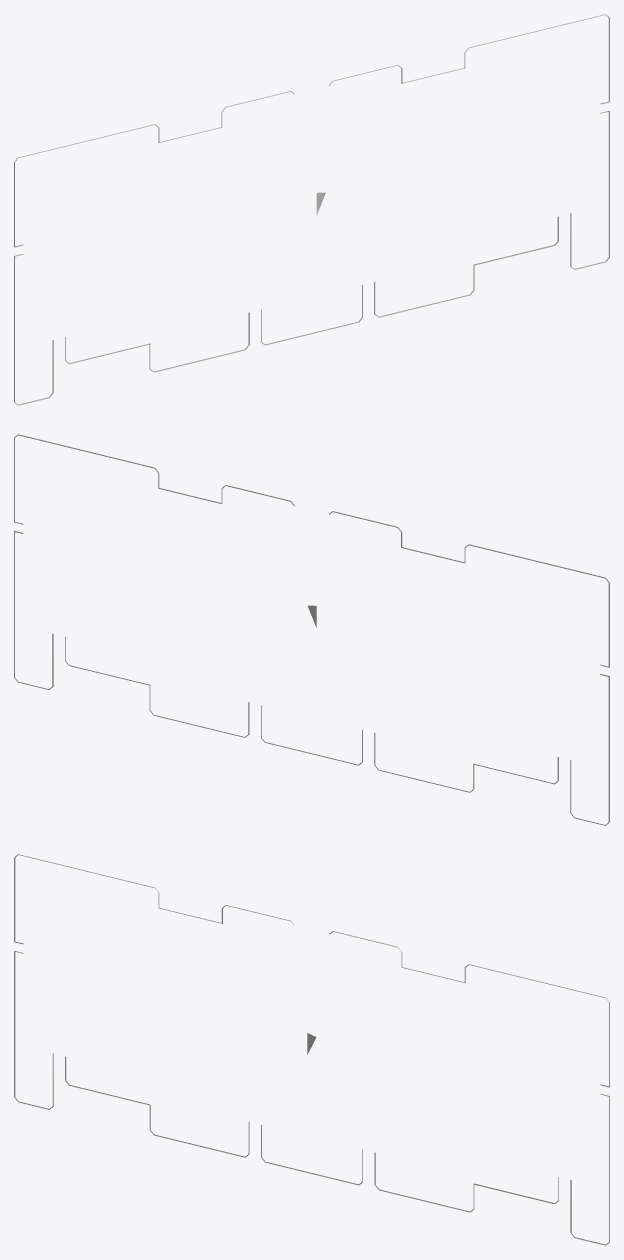
Rendered from SM_000167_merge_curb01_1.fbx.
3 views of the same model, one above another, from view 1: azimuth 30°, elevation 25°; view 2: azimuth 150°, elevation 25°; view 3: azimuth 330°, elevation 25° (orthographic).
Visible parts, largest first — view 1: SM_000167.001; view 2: SM_000167.001; view 3: SM_000167.001.
Boxes of the visible parts, x1,y1,x2,y2 form: SM_000167.001: [14, 14, 609, 405]; SM_000167.001: [14, 434, 609, 825]; SM_000167.001: [14, 854, 609, 1245].
Size of the model in its own units: 152 by 60.5 by 2.2.
